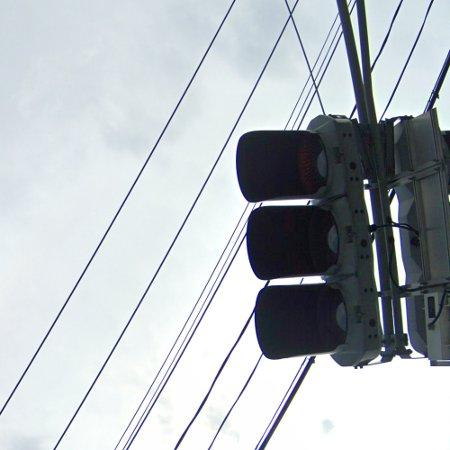traffic lights: (237, 116, 383, 367)
